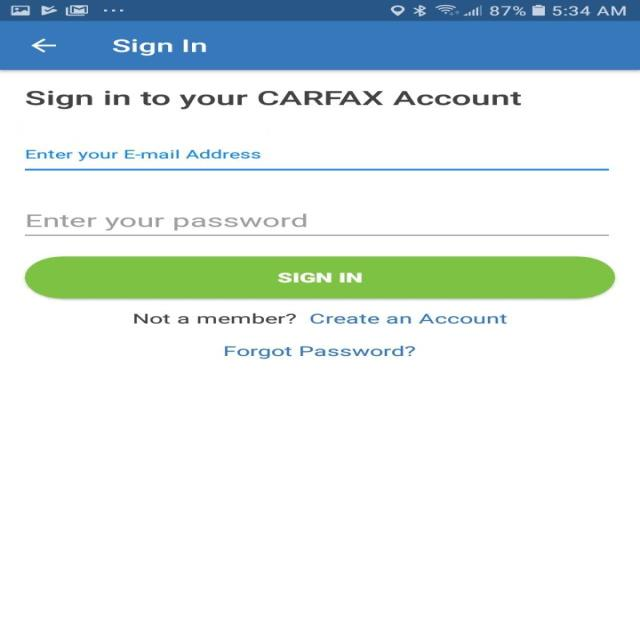EditText: (24, 213, 608, 236), (25, 149, 609, 171)
Icon: (31, 38, 57, 53)
Text: (26, 90, 521, 110), (26, 213, 306, 231), (26, 149, 260, 161), (224, 345, 415, 359), (309, 313, 507, 324), (133, 312, 296, 324), (111, 38, 206, 56)
TextButton: (25, 255, 615, 299)
